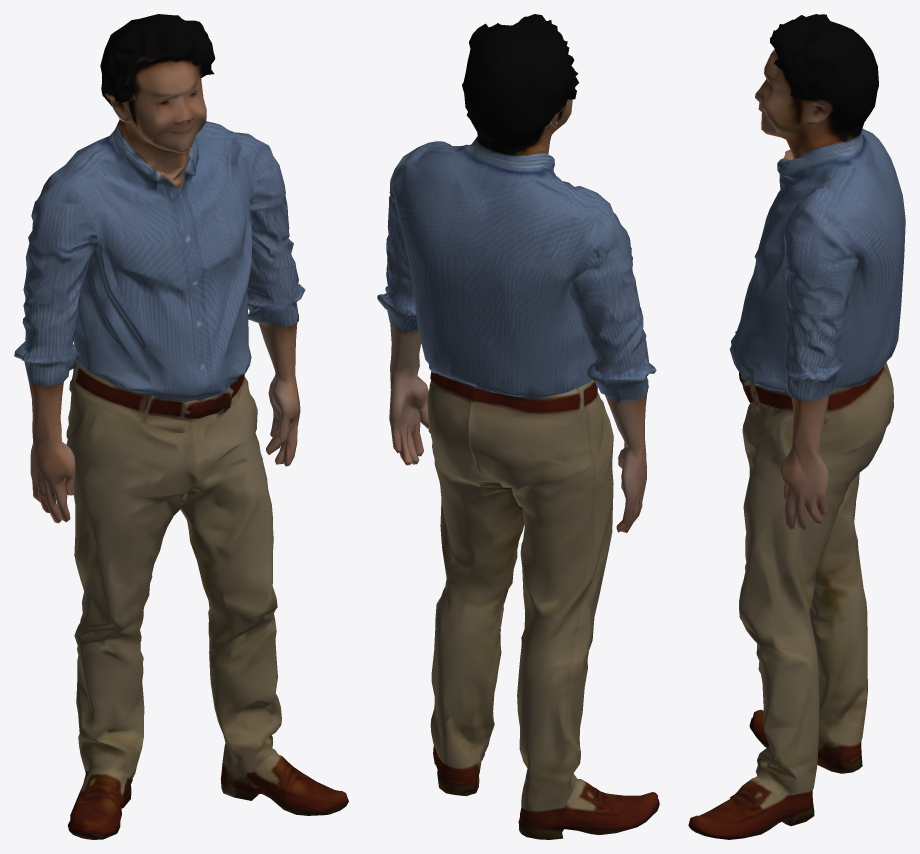
File: masyarakat_2_idle.glb
3 views of the same model, side by side, from view 1: azimuth 30°, elevation 25°; view 2: azimuth 150°, elevation 25°; view 3: azimuth 270°, elevation 25° (orthographic). The views are drawn at different scales.
Parts seen in each view (by area): view 1: tripo_node_a9dacee6; view 2: tripo_node_a9dacee6; view 3: tripo_node_a9dacee6.
Part boxes in pixels (<box>): tripo_node_a9dacee6: <box>14,14,348,839</box>; tripo_node_a9dacee6: <box>377,14,659,839</box>; tripo_node_a9dacee6: <box>688,14,905,839</box>.
Bounding box in the file's own units: 36.49 × 99.48 × 25.7.
1 material, 1 textured.
